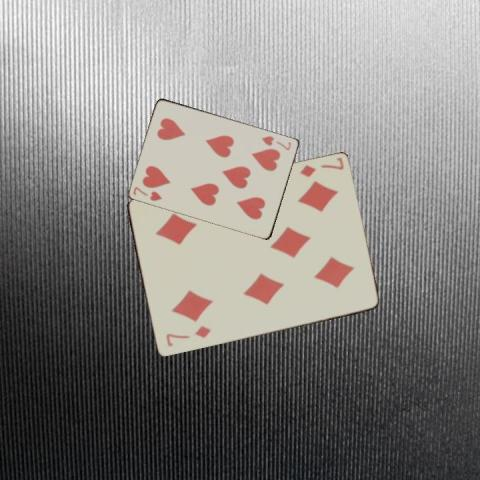7d: (162, 323, 212, 348), (296, 154, 345, 178)
7h: (258, 133, 292, 152), (130, 183, 164, 202)
